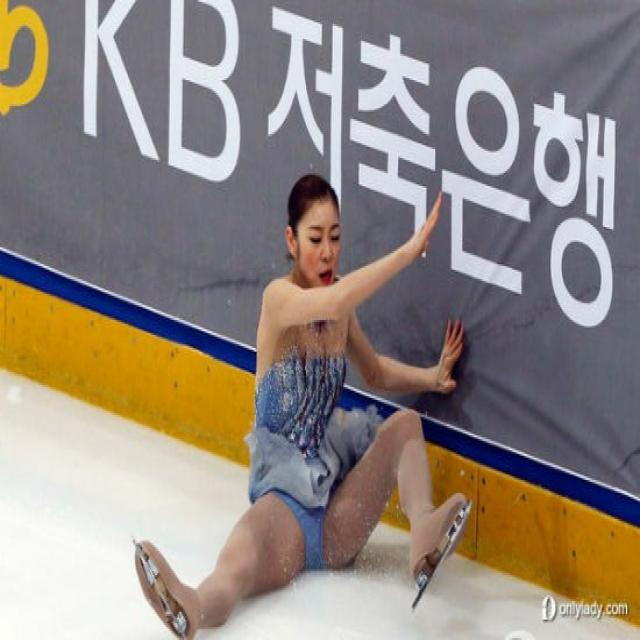fall: (172, 184, 440, 592)
